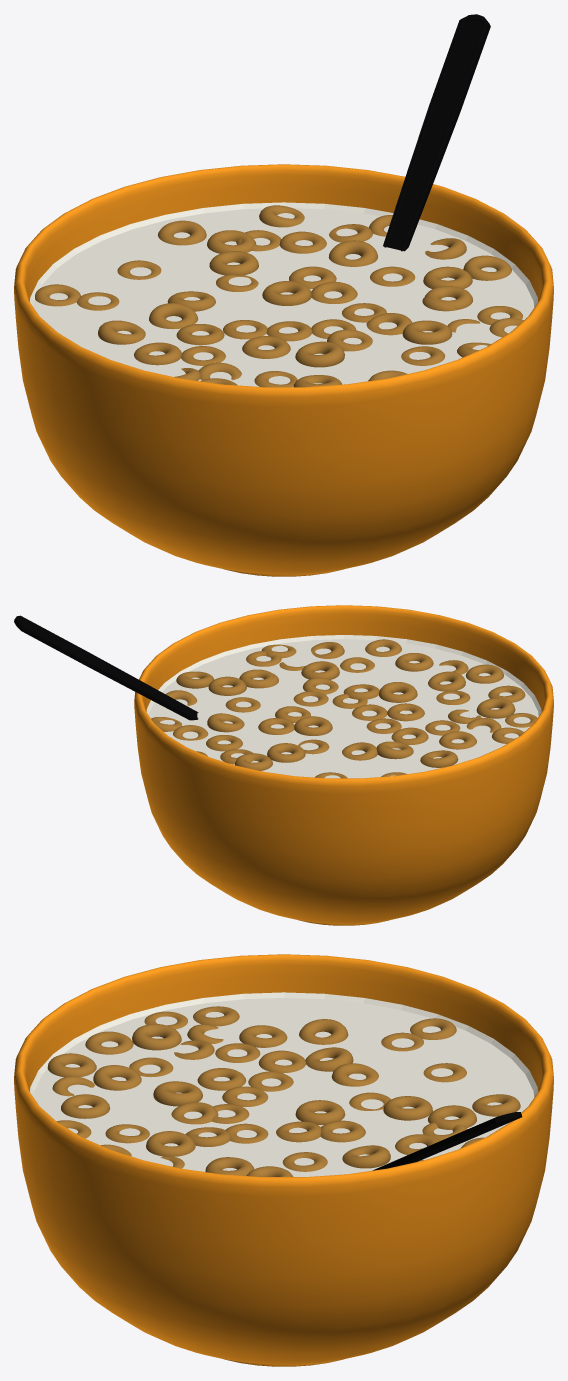
The model's file is cereal_bowl_A_FBX.FBX.
3 renders of one model, top to bottom at view 1: azimuth 30°, elevation 25°; view 2: azimuth 150°, elevation 25°; view 3: azimuth 270°, elevation 25°, orthographic. The views are drawn at different scales.
Visible parts, largest first — view 1: bowl_A, milk_surface, spoon, cereal08, cereal28, cereal05, cereal40, cereal50, cereal48, cereal30, cereal42, cereal29 (+11 smaller); view 2: bowl_A, milk_surface, spoon, cereal08, cereal19, cereal28, cereal40, cereal44, cereal27, cereal01, cereal51, cereal05 (+18 smaller); view 3: bowl_A, milk_surface, spoon, cereal19, cereal50, cereal08, cereal40, cereal44, cereal29, cereal28, cereal01, cereal51 (+26 smaller).
Boxes of the visible parts, x1,y1,x2,y2 form: bowl_A: [14, 164, 553, 576]; milk_surface: [30, 202, 537, 387]; spoon: [383, 14, 490, 251]; cereal08: [295, 341, 344, 367]; cereal28: [262, 281, 311, 305]; cereal05: [328, 240, 377, 266]; cereal40: [209, 251, 258, 275]; cereal50: [402, 320, 452, 344]; cereal48: [149, 303, 198, 329]; cereal30: [463, 255, 511, 280]; cereal42: [158, 220, 206, 245]; cereal29: [98, 320, 145, 344]; bowl_A: [134, 605, 553, 925]; milk_surface: [146, 635, 541, 778]; spoon: [14, 615, 198, 720]; cereal08: [379, 682, 417, 702]; cereal19: [476, 698, 515, 718]; cereal28: [294, 716, 332, 735]; cereal40: [267, 743, 305, 762]; cereal44: [428, 671, 465, 691]; cereal27: [208, 676, 246, 695]; cereal01: [395, 653, 433, 671]; cereal51: [465, 664, 503, 683]; cereal05: [207, 713, 244, 732]; bowl_A: [14, 954, 553, 1366]; milk_surface: [30, 992, 537, 1176]; spoon: [372, 1112, 522, 1170]; cereal19: [132, 1024, 181, 1050]; cereal50: [146, 1131, 195, 1156]; cereal08: [153, 1081, 202, 1106]; cereal40: [383, 1096, 432, 1120]; cereal44: [93, 1065, 141, 1090]; cereal29: [299, 1019, 348, 1044]; cereal28: [295, 1100, 345, 1124]; cereal01: [61, 1094, 110, 1118]; cereal51: [47, 1053, 96, 1077].
Size of the model in its own units: 20.24 by 12.64 by 17.3.
